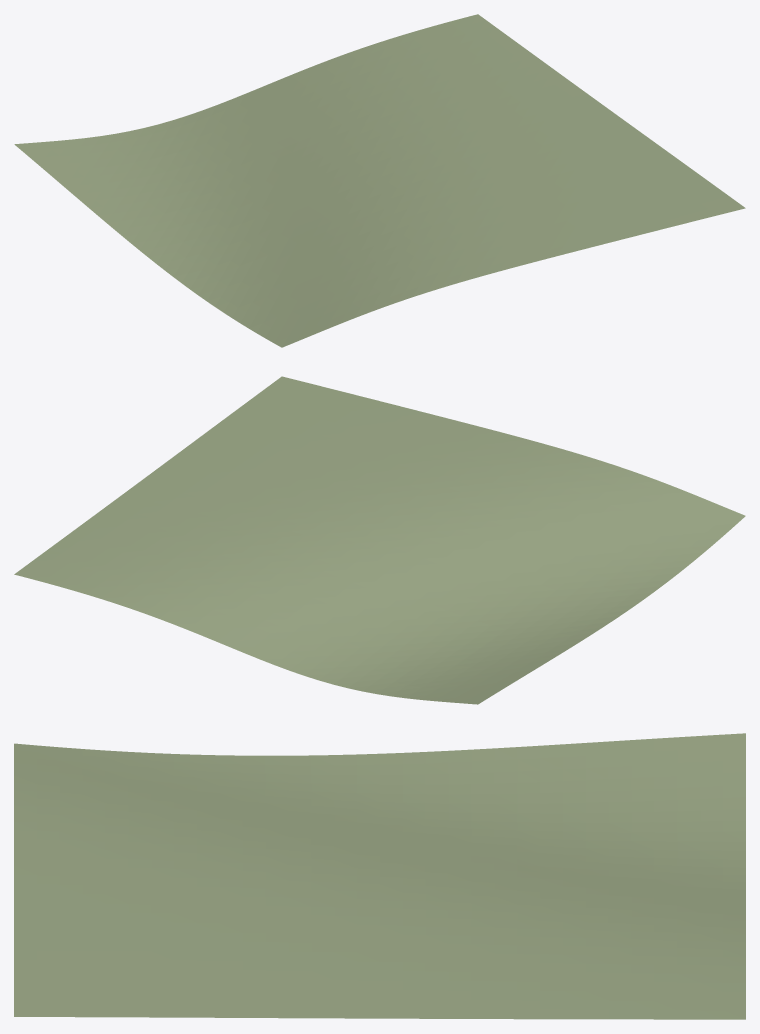
File: desert-13-10.glb
3 views of the same model, one above another, from view 1: azimuth 30°, elevation 25°; view 2: azimuth 150°, elevation 25°; view 3: azimuth 270°, elevation 25° (orthographic). The views are drawn at different scales.
Visible parts, largest first — view 1: desert-13-10; view 2: desert-13-10; view 3: desert-13-10.
Part boxes in pixels (<box>): desert-13-10: <box>14,14,745,347</box>; desert-13-10: <box>14,376,745,704</box>; desert-13-10: <box>14,733,745,1019</box>.
Size of the model in its own units: 512 by 37.22 by 512.
